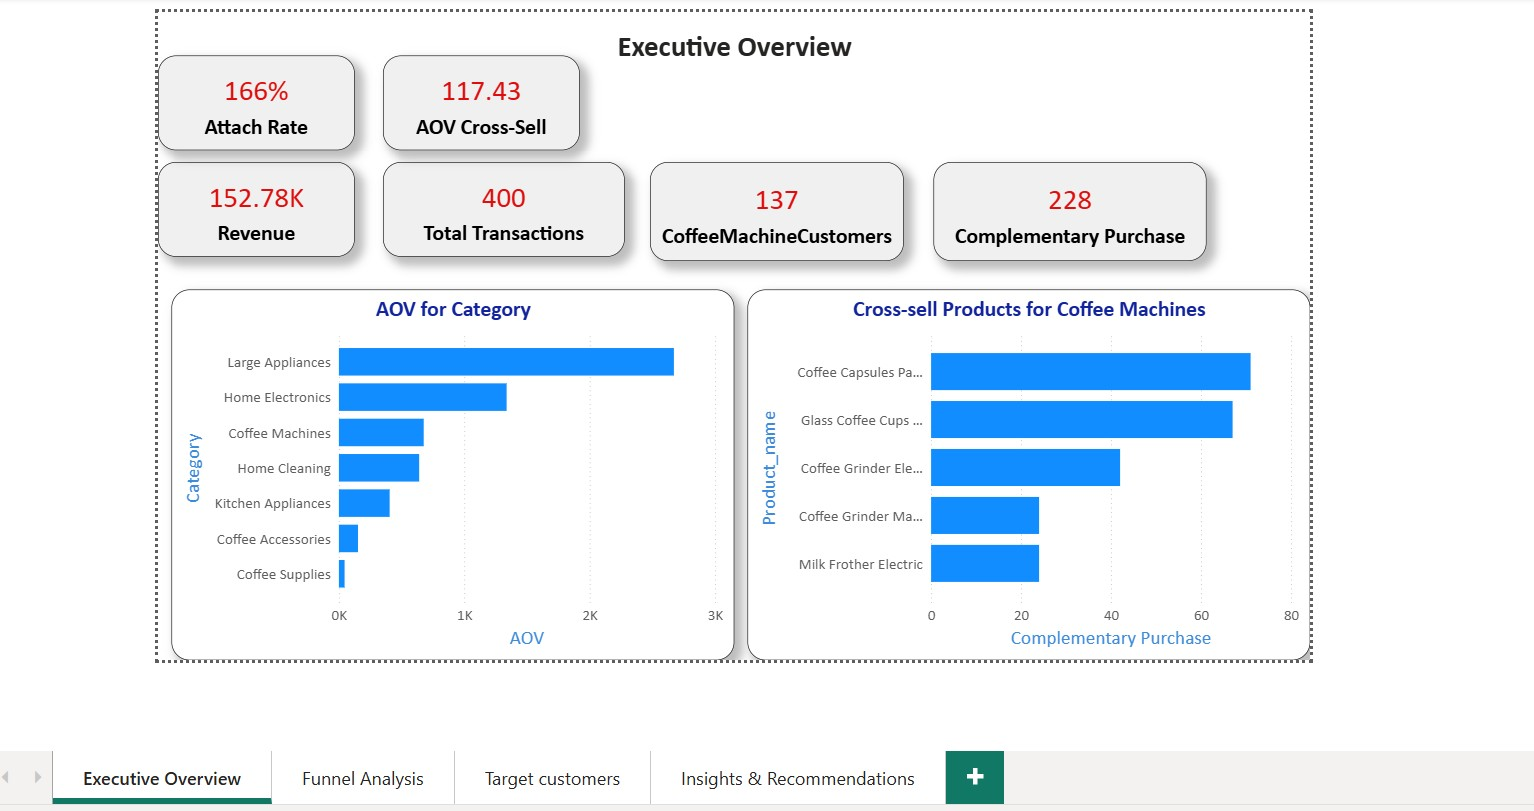

The dashboard page shown, as its layout file describes it:
{"tool":"powerbi","page":{"name":"Executive Overview","canvas":[1280,720],"ordinal":0},"visuals":[{"type":"card","fields":{"Values":["Fact_Sales.Total Transactions"]},"box":[250,166.7,268.3,105],"z":0},{"type":"card","fields":{"Values":["Fact_Sales.Ravenue"]},"box":[0,166.7,218.3,105],"z":1000},{"type":"clusteredBarChart","title":"AOV for Category","fields":{"Category":["products.Category"],"Y":["Fact_Sales.AOV"]},"box":[15,308.3,625,411.7],"z":2000},{"type":"card","fields":{"Values":["Fact_Sales.CoffeeMachineCustomers"]},"box":[546.7,166.7,281.7,110],"z":3000},{"type":"card","fields":{"Values":["Fact_Sales.Complementary Purchase"]},"box":[861.7,166.7,303.3,110],"z":4000},{"type":"clusteredBarChart","title":"Cross-sell Products for Coffee Machines","fields":{"Category":["products.Product_name"],"Y":["Fact_Sales.Complementary Purchase"]},"box":[655,308.3,625,411.7],"z":5000},{"type":"textbox","box":[486,14,308,68],"z":6000},{"type":"card","fields":{"Values":["Fact_Sales.Attach Rate"]},"box":[0,48.3,218.3,105],"z":7000},{"type":"card","fields":{"Values":["Fact_Sales.AOV Cross-Sell"]},"box":[250,48.3,218.3,105],"z":8000}]}

Visuals, with their boxes on the page's 1280x720 design canvas (x1, y1, x2, y2). These are canvas units, not pixel positions in the 1534x811 screenshot, which may show the page scaled, cropped or inside an application window:
card - Fact_Sales.Total Transactions: rect(250, 167, 518, 272)
card - Fact_Sales.Ravenue: rect(0, 167, 218, 272)
"AOV for Category" clusteredBarChart: rect(15, 308, 640, 720)
card - Fact_Sales.CoffeeMachineCustomers: rect(547, 167, 828, 277)
card - Fact_Sales.Complementary Purchase: rect(862, 167, 1165, 277)
"Cross-sell Products for Coffee Machines" clusteredBarChart: rect(655, 308, 1280, 720)
textbox: rect(486, 14, 794, 82)
card - Fact_Sales.Attach Rate: rect(0, 48, 218, 153)
card - Fact_Sales.AOV Cross-Sell: rect(250, 48, 468, 153)
